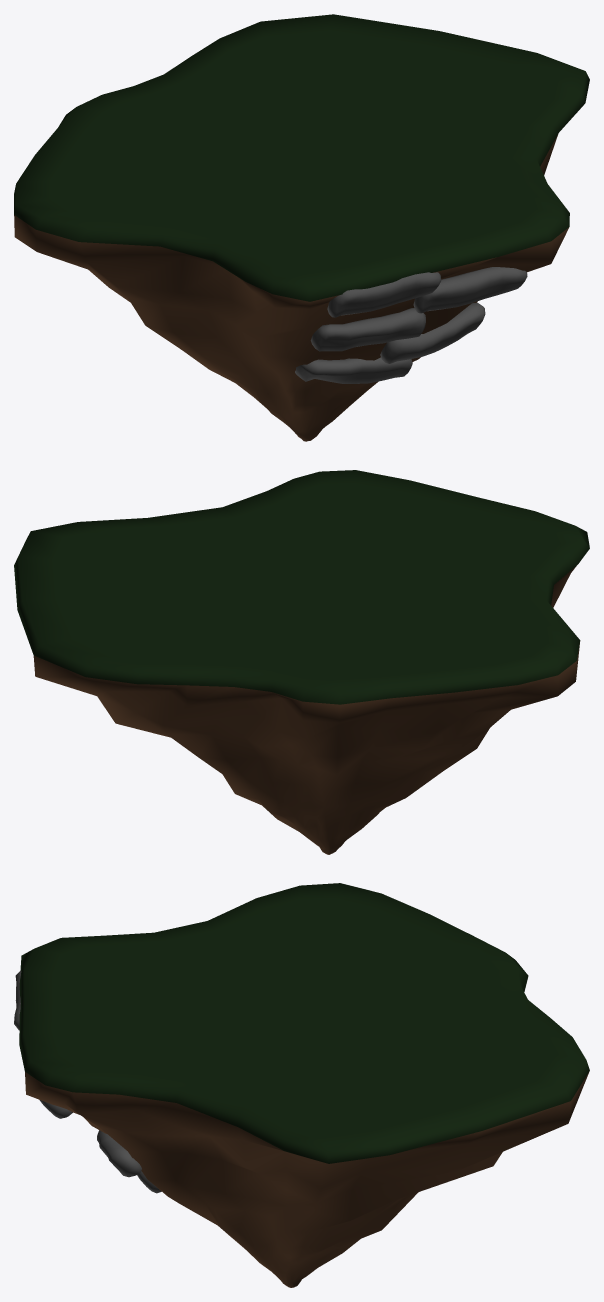
Rendered from IlhaGrande.fbx.
The picture shows the model from 3 angles, top to bottom: view 1: azimuth 30°, elevation 25°; view 2: azimuth 150°, elevation 25°; view 3: azimuth 270°, elevation 25°; orthographic projection. The views are drawn at different scales.
Visible parts, largest first — view 1: IlhaGrande, EscadaIlhaGrande; view 2: IlhaGrande; view 3: IlhaGrande, EscadaIlhaGrande.
Boxes of the visible parts, x1,y1,x2,y2 form: IlhaGrande: [14, 14, 589, 441]; EscadaIlhaGrande: [295, 267, 527, 383]; IlhaGrande: [14, 470, 589, 854]; IlhaGrande: [19, 883, 589, 1287]; EscadaIlhaGrande: [14, 970, 161, 1193].
Size of the model in its own units: 13959 by 6643 by 12502.
